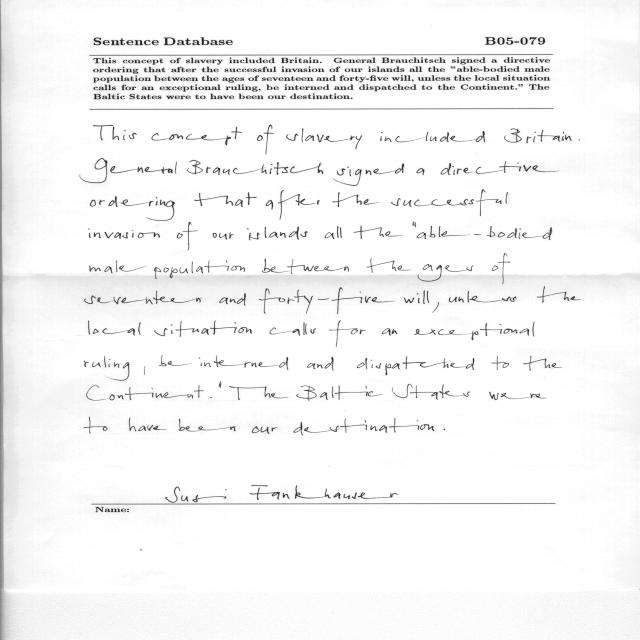word: (259, 287, 395, 314), (391, 190, 508, 216), (80, 159, 177, 184), (294, 418, 435, 435), (357, 357, 474, 376), (414, 322, 535, 340), (90, 196, 175, 221), (187, 160, 323, 175), (417, 226, 552, 240), (87, 385, 204, 401), (154, 261, 245, 280), (441, 161, 560, 175), (151, 127, 242, 145), (333, 163, 404, 186), (266, 190, 320, 220), (286, 129, 362, 150), (154, 321, 252, 337), (84, 291, 202, 304), (262, 258, 349, 274), (199, 355, 288, 370), (296, 386, 382, 401), (392, 384, 470, 400), (380, 131, 485, 142), (84, 356, 130, 381), (504, 129, 572, 144), (329, 320, 366, 347), (418, 264, 474, 281), (194, 193, 257, 208), (229, 386, 288, 400), (449, 291, 517, 303), (247, 227, 308, 240), (89, 321, 141, 336), (179, 419, 236, 432), (90, 261, 146, 274), (89, 229, 160, 239), (537, 287, 581, 303), (332, 193, 378, 208), (367, 258, 411, 273), (94, 125, 137, 140), (270, 322, 316, 336), (354, 226, 403, 239), (177, 222, 198, 250), (523, 356, 562, 371), (492, 254, 510, 284), (257, 125, 274, 155), (129, 418, 167, 431), (489, 392, 547, 400), (84, 417, 108, 434), (307, 357, 334, 371), (219, 293, 246, 306), (404, 290, 429, 304), (160, 355, 191, 366), (492, 356, 509, 370), (325, 226, 342, 239), (252, 426, 277, 434), (213, 232, 234, 240), (382, 328, 397, 335), (433, 302, 439, 313), (417, 168, 425, 175), (412, 222, 416, 227), (219, 382, 222, 388), (144, 366, 145, 375), (210, 397, 212, 398), (579, 140, 580, 141), (444, 429, 445, 430)
